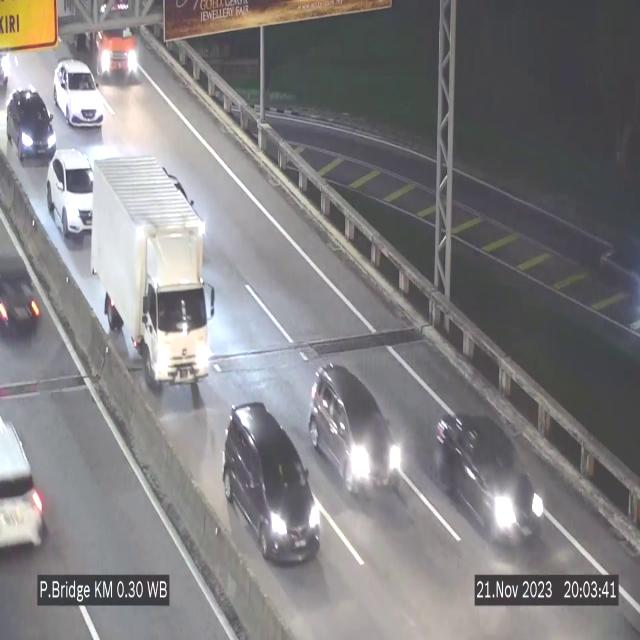Car: (433, 401, 545, 548), (223, 404, 322, 561), (311, 361, 404, 497), (0, 398, 52, 584), (0, 235, 50, 341), (47, 147, 94, 246), (6, 89, 56, 162), (54, 60, 103, 127)
Truck: (88, 151, 219, 390), (63, 0, 139, 84)
